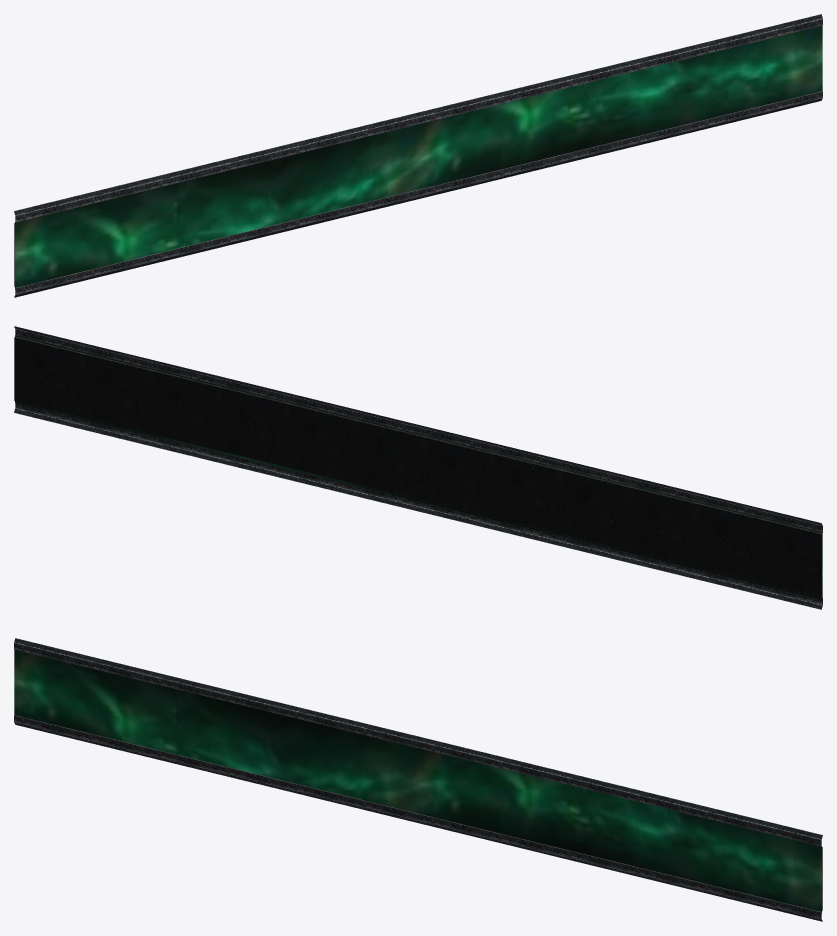
3 renders of one model, top to bottom at view 1: azimuth 30°, elevation 25°; view 2: azimuth 150°, elevation 25°; view 3: azimuth 330°, elevation 25°, orthographic.
Visible parts, largest first — view 1: model_Object18; view 2: model_Object18; view 3: model_Object18.
Boxes of the visible parts, left/top/right/bottom form: model_Object18: left=14, top=14, right=822, bottom=297; model_Object18: left=14, top=326, right=822, bottom=609; model_Object18: left=14, top=638, right=822, bottom=921.
Size of the model in its own units: 4.4 by 0.4513 by 0.0126.
2 materials, 2 textured.
